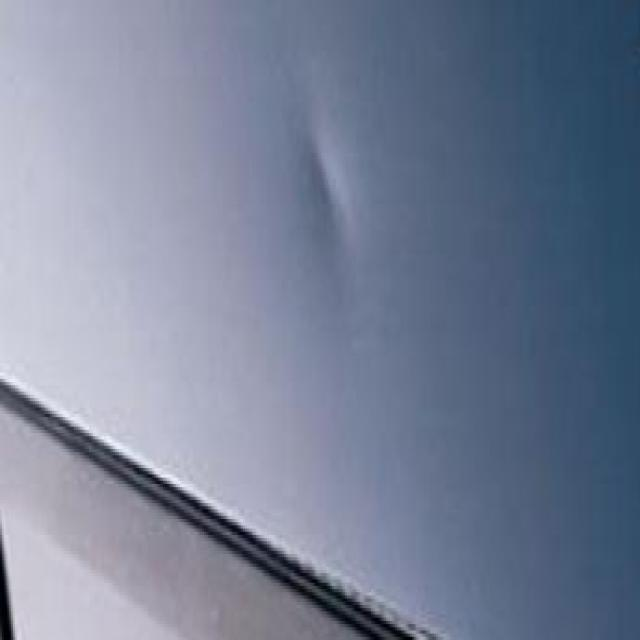dent: (266, 100, 383, 263)
